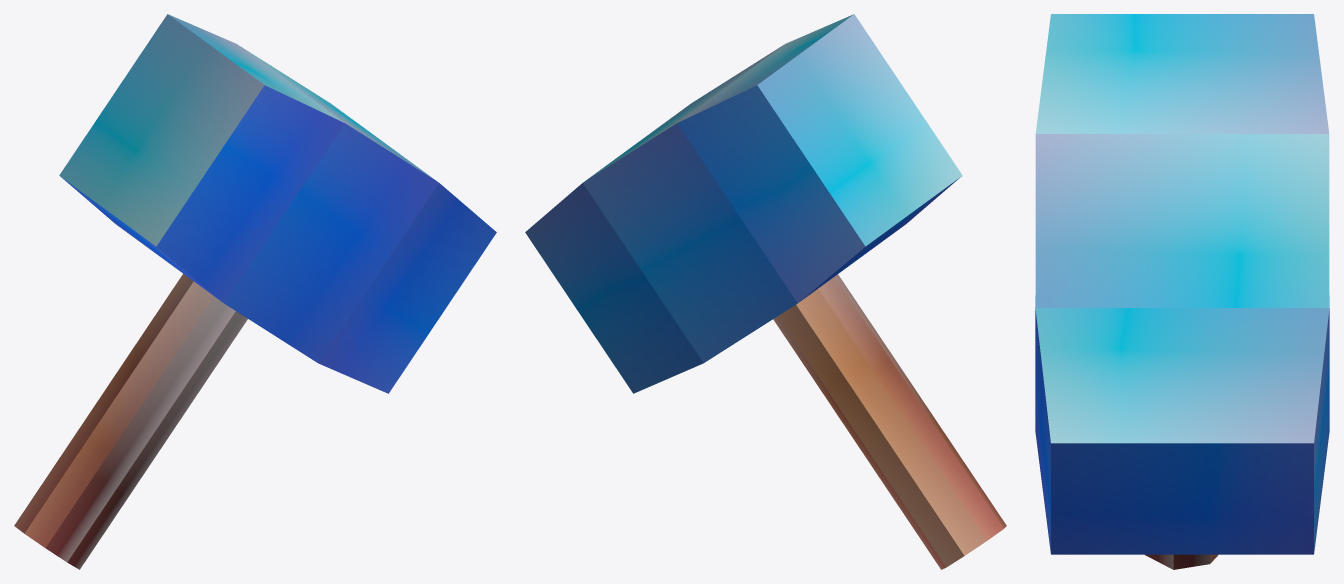
File: hammer03.fbx
3 views of the same model, side by side, from view 1: azimuth 30°, elevation 25°; view 2: azimuth 150°, elevation 25°; view 3: azimuth 270°, elevation 25° (orthographic). The views are drawn at different scales.
Parts seen in each view (by area): view 1: hammer03; view 2: hammer03; view 3: hammer03.
Boxes of the visible parts, x1,y1,x2,y2 form: hammer03: (14,14,496,569); hammer03: (525,14,1006,569); hammer03: (1035,14,1329,569).
Bounding box in the file's own units: 128 × 138 × 56.43.
